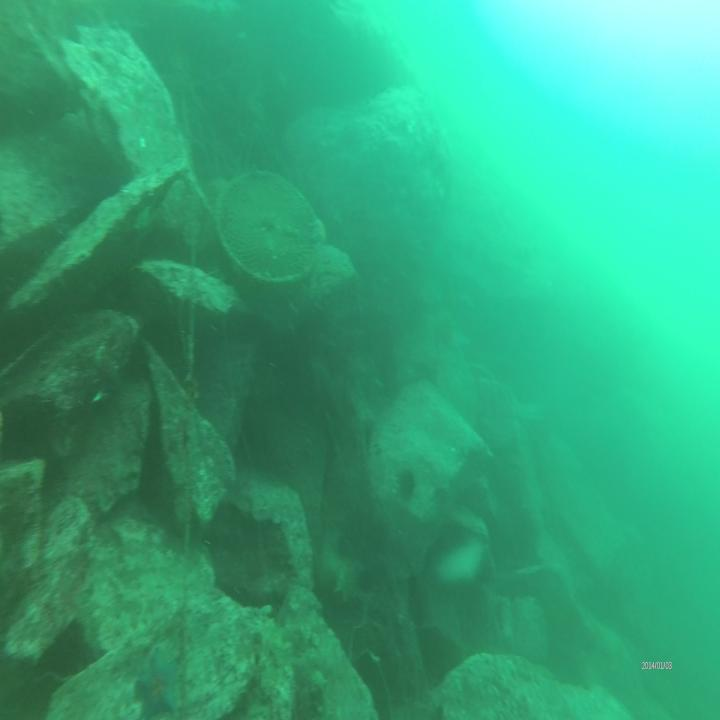echinus: (397, 462, 420, 498)
starfish: (137, 649, 179, 719)
